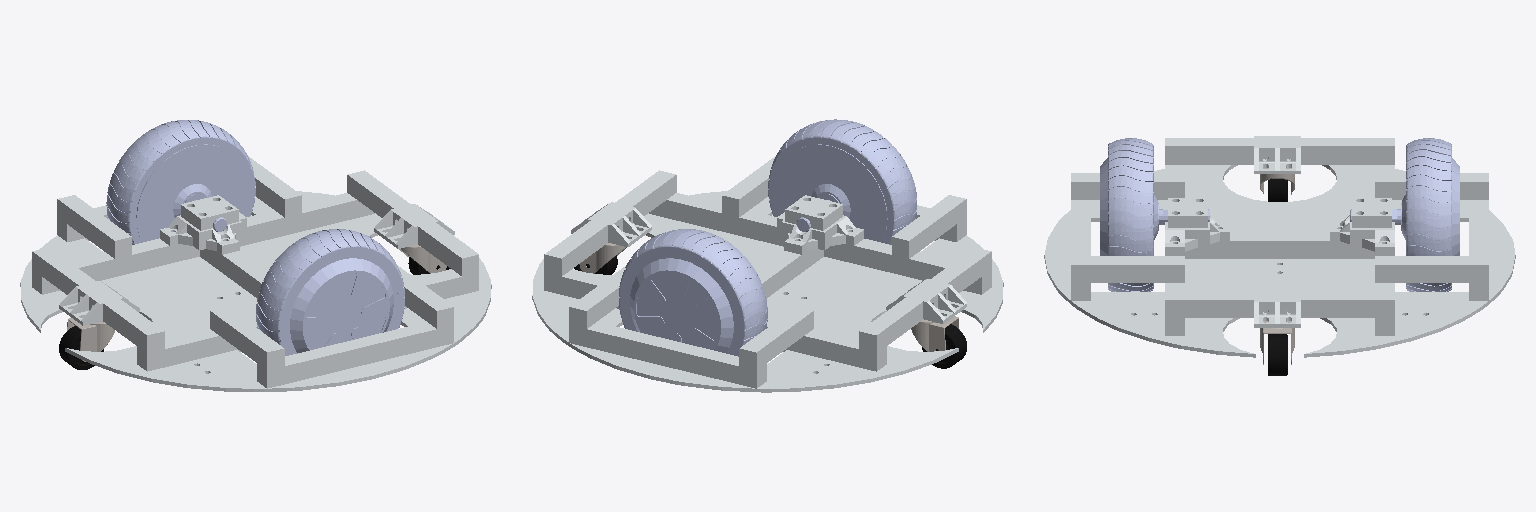
robot.urdf — Modelo2:
<?xml version="1.0" encoding="utf-8"?>
<!-- This URDF was automatically created by SolidWorks to URDF Exporter! Originally created by [author] ([email redacted]) 
     Commit Version: 1.6.0-4-g7f85cfe  Build Version: 1.6.7995.38578
     For more information, please see http://wiki.ros.org/sw_urdf_exporter -->
<robot
  name="Modelo2">
  <link
    name="base_link">
    <inertial>
      <origin
        xyz="-6.93889390390723E-18 -5.54594813511036E-05 -0.0069065551588681"
        rpy="0 0 0" />
      <mass
        value="1.59520800913696" />
      <inertia
        ixx="0.0192985567988263"
        ixy="8.58141631513745E-13"
        ixz="-1.49239290594735E-19"
        iyy="0.0191562098974604"
        iyz="-0.000152041178230972"
        izz="0.0382179086633143" />
    </inertial>
    <visual>
      <origin
        xyz="0 0 0"
        rpy="0 0 0" />
      <geometry>
        <mesh
          filename="package://Modelo2/meshes/base_link.STL" />
      </geometry>
      <material
        name="">
        <color
          rgba="0.894117647058823 0.913725490196078 0.929411764705882 1" />
      </material>
    </visual>
    <collision>
      <origin
        xyz="0 0 0"
        rpy="0 0 0" />
      <geometry>
        <mesh
          filename="package://Modelo2/meshes/base_link.STL" />
      </geometry>
    </collision>
  </link>
  <link
    name="left_wheel">
    <inertial>
      <origin
        xyz="-3.14330033453561E-06 -6.56738631856163E-06 0.0291446115167832"
        rpy="0 0 0" />
      <mass
        value="0.958008205459542" />
      <inertia
        ixx="0.00158534602463517"
        ixy="1.36072608890677E-08"
        ixz="1.65486211393412E-07"
        iyy="0.00158536794192628"
        iyz="3.45755037846536E-07"
        izz="0.0027026878956097" />
    </inertial>
    <visual>
      <origin
        xyz="0 0 0"
        rpy="0 0 0" />
      <geometry>
        <mesh
          filename="package://Modelo2/meshes/left_wheel.STL" />
      </geometry>
      <material
        name="">
        <color
          rgba="0.792156862745098 0.819607843137255 0.933333333333333 1" />
      </material>
    </visual>
    <collision>
      <origin
        xyz="0 0 0"
        rpy="0 0 0" />
      <geometry>
        <mesh
          filename="package://Modelo2/meshes/left_wheel.STL" />
      </geometry>
    </collision>
  </link>
  <joint
    name="leftwheel_joint"
    type="continuous">
    <origin
      xyz="0 0.18 0.022"
      rpy="1.5708 0 0" />
    <parent
      link="base_link" />
    <child
      link="left_wheel" />
    <axis
      xyz="0 0 -1" />
    <limit
      effort="6.5"
      velocity="40" />
    <dynamics
      friction="0.1" />
  </joint>
  <link
    name="right_wheel">
    <inertial>
      <origin
        xyz="9.03817139359664E-08 -7.28029456295359E-06 -0.0291446514181855"
        rpy="0 0 0" />
      <mass
        value="0.95800858734738" />
      <inertia
        ixx="0.00158533951727554"
        ixy="-4.33732580100363E-10"
        ixz="4.75834716119502E-09"
        iyy="0.00158537444928592"
        iyz="-3.83287868957562E-07"
        izz="0.0027026878956097" />
    </inertial>
    <visual>
      <origin
        xyz="0 0 0"
        rpy="0 0 0" />
      <geometry>
        <mesh
          filename="package://Modelo2/meshes/right_wheel.STL" />
      </geometry>
      <material
        name="">
        <color
          rgba="0.792156862745098 0.819607843137255 0.933333333333333 1" />
      </material>
    </visual>
    <collision>
      <origin
        xyz="0 0 0"
        rpy="0 0 0" />
      <geometry>
        <mesh
          filename="package://Modelo2/meshes/right_wheel.STL" />
      </geometry>
    </collision>
  </link>
  <joint
    name="rightwheel_joint"
    type="continuous">
    <origin
      xyz="0 -0.18 0.022"
      rpy="1.5708 0 0" />
    <parent
      link="base_link" />
    <child
      link="right_wheel" />
    <axis
      xyz="0 0 1" />
    <limit
      effort="6.5"
      velocity="40" />
    <dynamics
      friction="0.1" />
  </joint>
  <link
    name="front_caster">
    <inertial>
      <origin
        xyz="0.00719645182828996 5.27849148379716E-05 -0.0129869427741275"
        rpy="0 0 0" />
      <mass
        value="0.0345228972247052" />
      <inertia
        ixx="8.7256705327778E-06"
        ixy="1.6376475932051E-09"
        ixz="1.70393496562884E-06"
        iyy="8.4680866315482E-06"
        iyz="1.28132864003398E-08"
        izz="9.95030505700406E-06" />
    </inertial>
    <visual>
      <origin
        xyz="0 0 0"
        rpy="0 0 0" />
      <geometry>
        <mesh
          filename="package://Modelo2/meshes/front_caster.STL" />
      </geometry>
      <material
        name="">
        <color
          rgba="0.780392156862745 0.76078431372549 0.741176470588235 1" />
      </material>
    </visual>
    <collision>
      <origin
        xyz="0 0 0"
        rpy="0 0 0" />
      <geometry>
        <mesh
          filename="package://Modelo2/meshes/front_caster.STL" />
      </geometry>
    </collision>
  </link>
  <joint
    name="frontcaster_joint"
    type="continuous">
    <origin
      xyz="0.18128 -0.0025 -0.003"
      rpy="0 0 0" />
    <parent
      link="base_link" />
    <child
      link="front_caster" />
    <axis
      xyz="0 0 1" />
  </joint>
  <link
    name="front_caster_wheel">
    <inertial>
      <origin
        xyz="0 0 -1.30104260698261E-18"
        rpy="0 0 0" />
      <mass
        value="0.0241433930709178" />
      <inertia
        ixx="3.43879451958221E-06"
        ixy="3.83223843367824E-22"
        ixz="1.46535404494117E-08"
        iyy="3.4386872810978E-06"
        iyz="-4.2502845668815E-21"
        izz="5.44101180937204E-06" />
    </inertial>
    <visual>
      <origin
        xyz="0 0 0"
        rpy="0 0 0" />
      <geometry>
        <mesh
          filename="package://Modelo2/meshes/front_caster_wheel.STL" />
      </geometry>
      <material
        name="">
        <color
          rgba="0.109803921568627 0.109803921568627 0.109803921568627 1" />
      </material>
    </visual>
    <collision>
      <origin
        xyz="0 0 0"
        rpy="0 0 0" />
      <geometry>
        <mesh
          filename="package://Modelo2/meshes/front_caster_wheel.STL" />
      </geometry>
    </collision>
  </link>
  <joint
    name="frontcasterwheel_joint"
    type="continuous">
    <origin
      xyz="0.019933 0.00014587 -0.0335"
      rpy="1.5708 0 0" />
    <parent
      link="front_caster" />
    <child
      link="front_caster_wheel" />
    <axis
      xyz="0.0073181 0 0.99997" />
    <dynamics
      friction="0.1" />
  </joint>
  <link
    name="back_caster">
    <inertial>
      <origin
        xyz="-0.00719637451878952 6.26008290069229E-05 -0.012986943563235"
        rpy="0 0 0" />
      <mass
        value="0.0345228978243338" />
      <inertia
        ixx="8.72565670210285E-06"
        ixy="-2.49113210026492E-09"
        ixz="-1.70392265602734E-06"
        iyy="8.46810352891274E-06"
        iyz="1.45080704401875E-08"
        izz="9.95030487155889E-06" />
    </inertial>
    <visual>
      <origin
        xyz="0 0 0"
        rpy="0 0 0" />
      <geometry>
        <mesh
          filename="package://Modelo2/meshes/back_caster.STL" />
      </geometry>
      <material
        name="">
        <color
          rgba="0.780392156862745 0.76078431372549 0.741176470588235 1" />
      </material>
    </visual>
    <collision>
      <origin
        xyz="0 0 0"
        rpy="0 0 0" />
      <geometry>
        <mesh
          filename="package://Modelo2/meshes/back_caster.STL" />
      </geometry>
    </collision>
  </link>
  <joint
    name="backcaster_joint"
    type="continuous">
    <origin
      xyz="-0.182778643696715 -0.00250000000000012 -0.00300000000000001"
      rpy="0 0 0" />
    <parent
      link="base_link" />
    <child
      link="back_caster" />
    <axis
      xyz="0 0 1" />
  </joint>
  <link
    name="back_caster_wheel">
    <inertial>
      <origin
        xyz="0 -6.93889390390723E-18 4.33680868994202E-19"
        rpy="0 0 0" />
      <mass
        value="0.0241433930709178" />
      <inertia
        ixx="3.43883937316653E-06"
        ixy="-9.76595632316455E-23"
        ixz="-1.74508125282442E-08"
        iyy="3.4386872810978E-06"
        iyz="2.06750280740556E-21"
        izz="5.44096695578772E-06" />
    </inertial>
    <visual>
      <origin
        xyz="0 0 0"
        rpy="0 0 0" />
      <geometry>
        <mesh
          filename="package://Modelo2/meshes/back_caster_wheel.STL" />
      </geometry>
      <material
        name="">
        <color
          rgba="0.109803921568627 0.109803921568627 0.109803921568627 1" />
      </material>
    </visual>
    <collision>
      <origin
        xyz="0 0 0"
        rpy="0 0 0" />
      <geometry>
        <mesh
          filename="package://Modelo2/meshes/back_caster_wheel.STL" />
      </geometry>
    </collision>
  </link>
  <joint
    name="backcasterwheel_joint"
    type="continuous">
    <origin
      xyz="-0.019933 0.00017372 -0.0335"
      rpy="1.5708 0 0" />
    <parent
      link="back_caster" />
    <child
      link="back_caster_wheel" />
    <axis
      xyz="0.0087151 0 -0.99996" />
    <dynamics
      friction="0.1" />
  </joint>
</robot>

--- What the picture shows (computed from the rendered views, not written in the file) ---
The picture shows the robot from 3 angles, left to right: view 1: azimuth 30°, elevation 25°; view 2: azimuth 150°, elevation 25°; view 3: azimuth 270°, elevation 25°; orthographic projection.
Model Modelo2 with 7 links and 6 joints (6 continuous), rooted at base_link, posed all joints at 0.
Visible links, largest first — view 1: base_link, right_wheel, left_wheel, back_caster, back_caster_wheel, front_caster; view 2: base_link, left_wheel, right_wheel, back_caster, back_caster_wheel, front_caster; view 3: base_link, left_wheel, right_wheel, front_caster_wheel.
Boxes of the visible links, <box> form: base_link: <box>20,156,491,391</box>; right_wheel: <box>256,229,404,355</box>; left_wheel: <box>106,120,255,244</box>; back_caster: <box>67,318,114,361</box>; back_caster_wheel: <box>59,326,103,369</box>; front_caster: <box>399,245,446,273</box>; base_link: <box>532,156,1003,392</box>; left_wheel: <box>619,229,767,356</box>; right_wheel: <box>768,119,916,244</box>; back_caster: <box>911,316,959,351</box>; back_caster_wheel: <box>922,324,966,368</box>; front_caster: <box>579,243,626,273</box>; base_link: <box>1044,136,1515,357</box>; left_wheel: <box>1350,138,1459,291</box>; right_wheel: <box>1100,138,1209,291</box>; front_caster_wheel: <box>1268,334,1287,375</box>.
Size in the robot's own frame: 0.47 by 0.4724 by 0.1587 metres.
7 mesh visuals loaded from 7 distinct referenced files (7 binary STL).